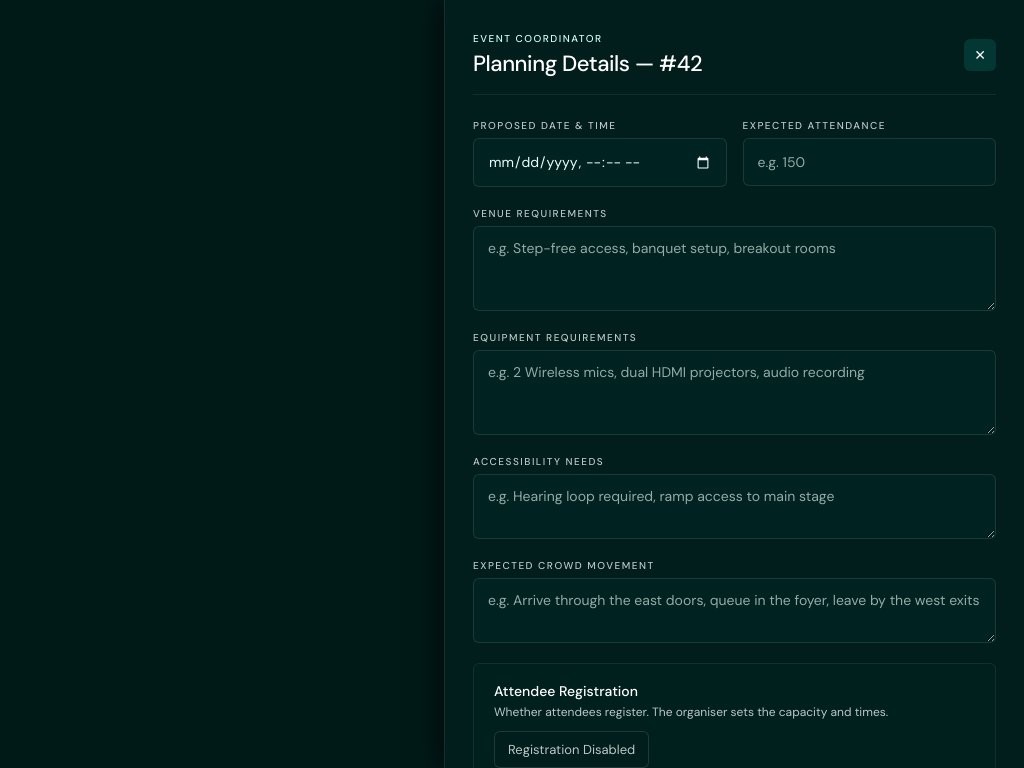
EventPlanningDrawer Component › [NORMAL] [SG2-39:AC1] toggles registration needed section and updates state
The image size is (1024, 768).
Click the button "Registration Disabled".
click(572, 749)  # box [494, 731, 649, 767]
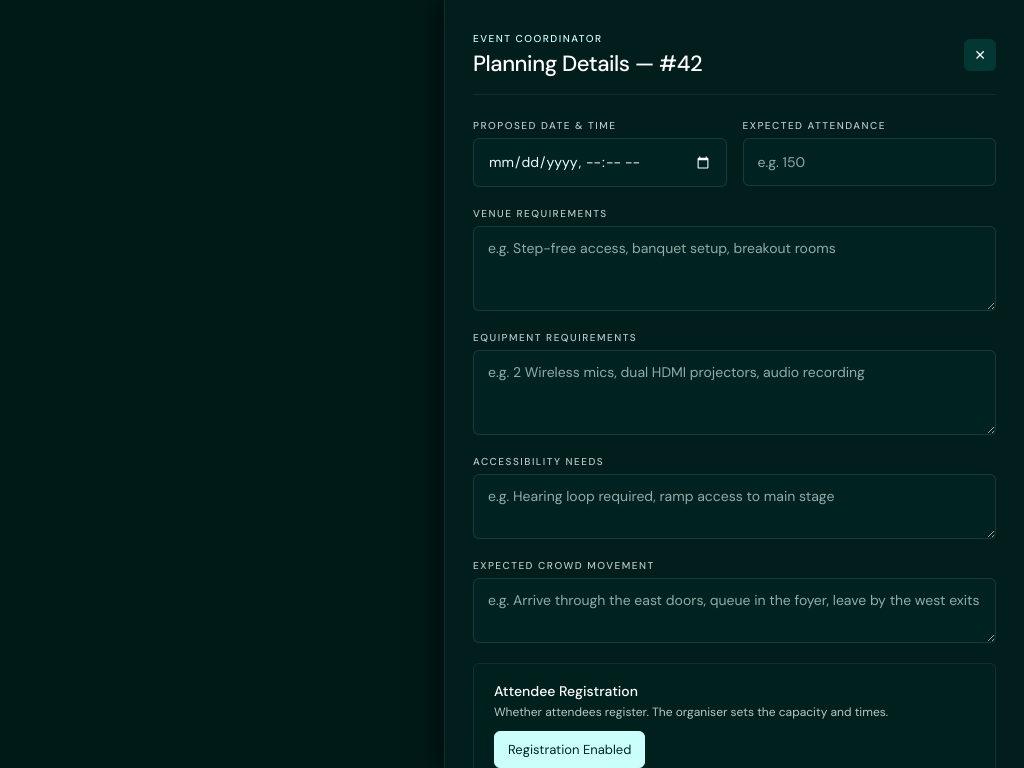
Result: the button "Registration Enabled" is shown
Click the button "Registration Enabled".
click(570, 749)  # box [494, 731, 645, 767]
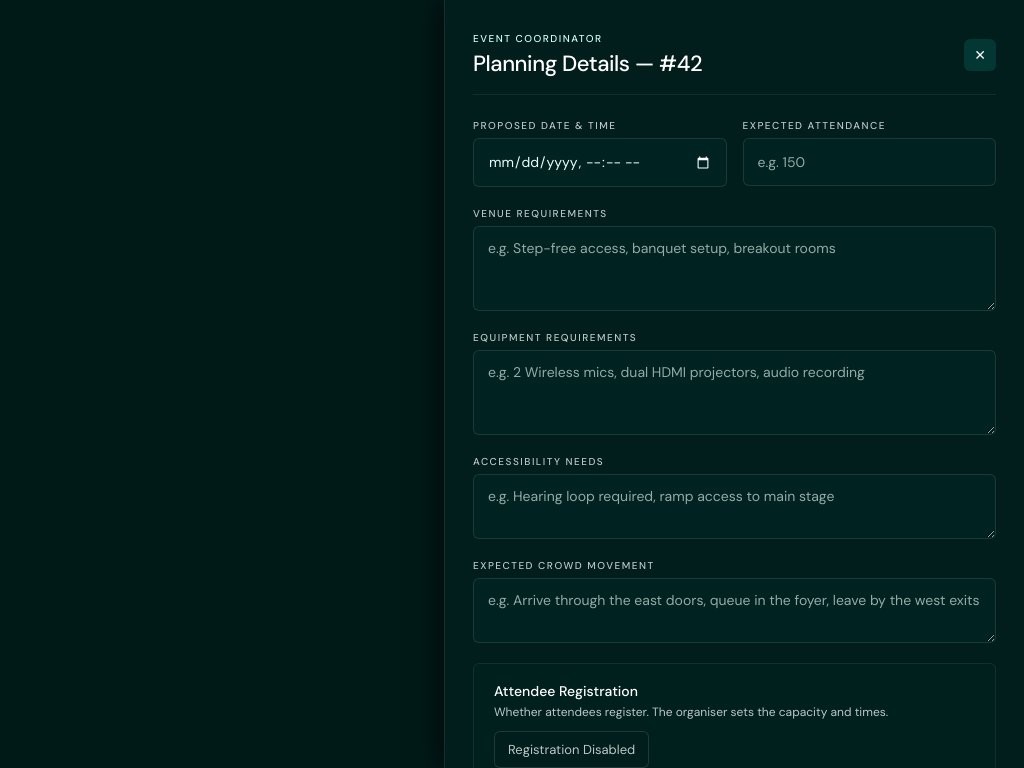
Result: the button "Registration Disabled" is shown at [494, 731, 649, 767]
